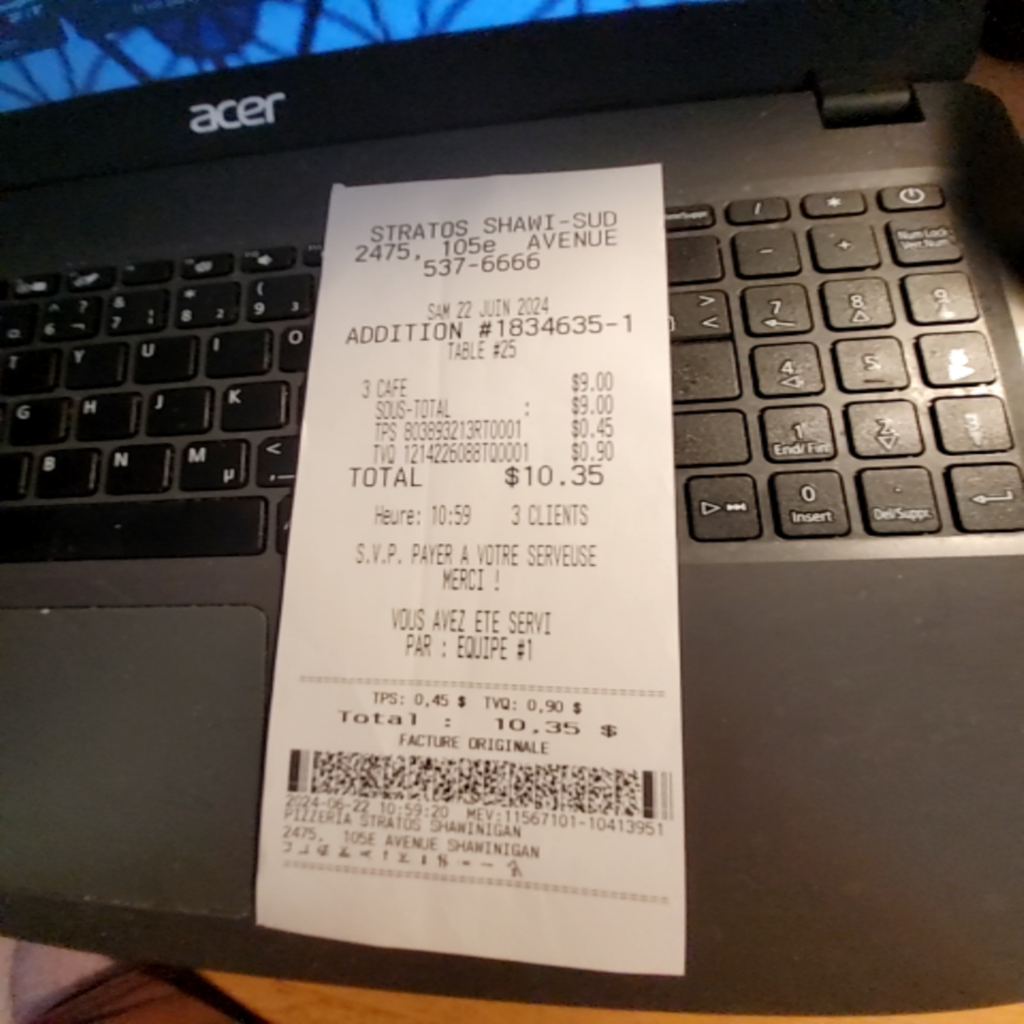recipt: (252, 166, 684, 980)
